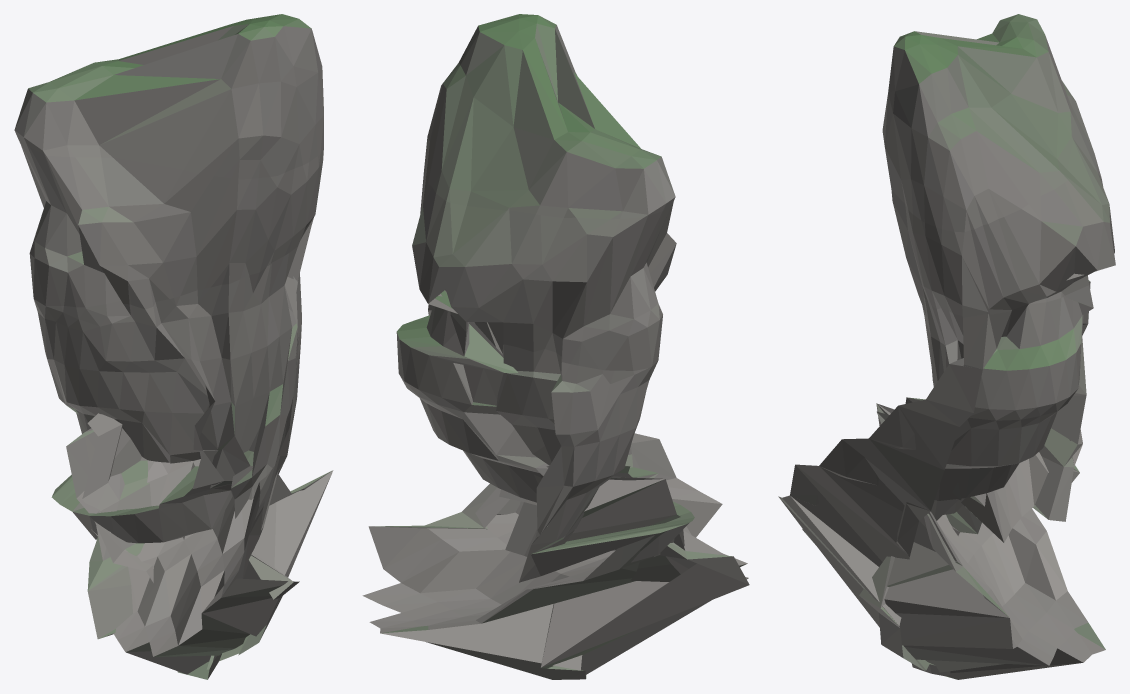
File: Stein_3.fbx
3 renders of one model, left to right at view 1: azimuth 30°, elevation 25°; view 2: azimuth 150°, elevation 25°; view 3: azimuth 270°, elevation 25°, orthographic. The views are drawn at different scales.
Parts seen in each view (by area): view 1: Stein_3; view 2: Stein_3; view 3: Stein_3.
Part boxes in pixels (box(x1,y1,x2,y2)): Stein_3: box(14, 14, 333, 679); Stein_3: box(362, 14, 749, 679); Stein_3: box(778, 14, 1115, 679).
Bounding box in the file's own units: 0.3343 × 0.66 × 0.3076.
